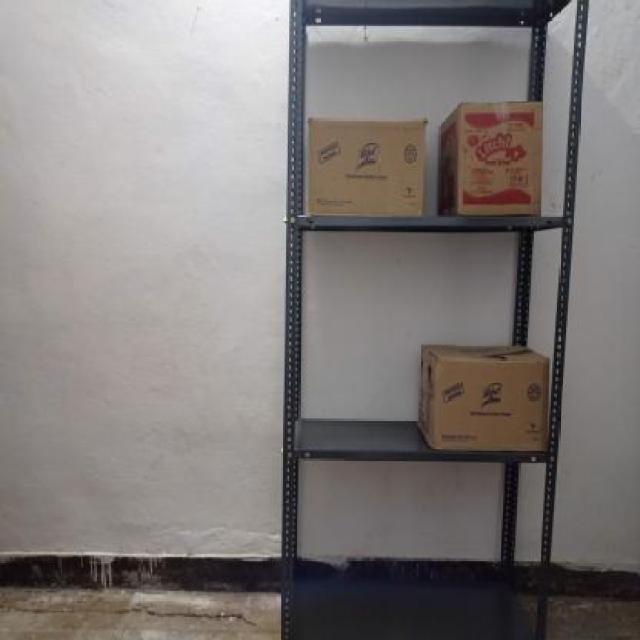box: (309, 117, 426, 211), (432, 358, 548, 450), (458, 99, 542, 216)
